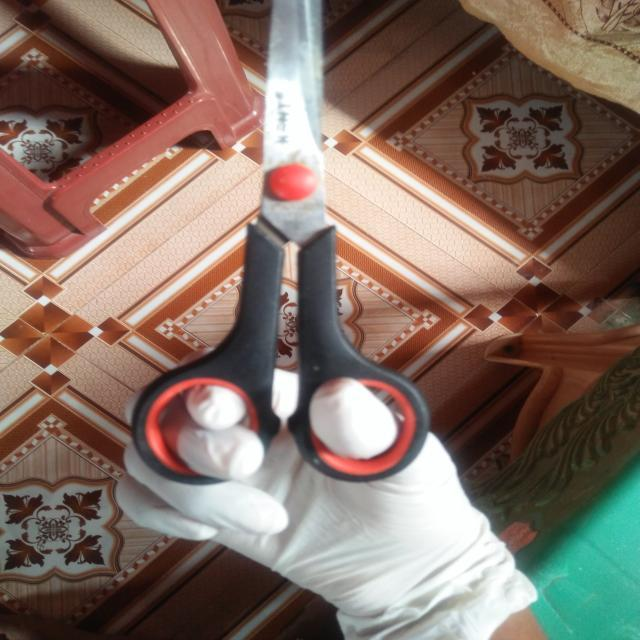glove_hand: (106, 342, 544, 636)
